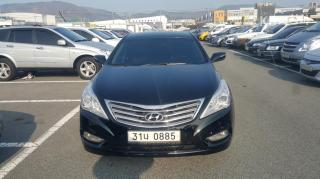0: (154, 132, 159, 141)
1: (138, 132, 143, 140)
3: (132, 131, 139, 141)
5: (170, 131, 177, 140)
8: (165, 131, 170, 140), (159, 132, 164, 140)
plate: (123, 126, 185, 147)
나: (143, 132, 150, 140)
